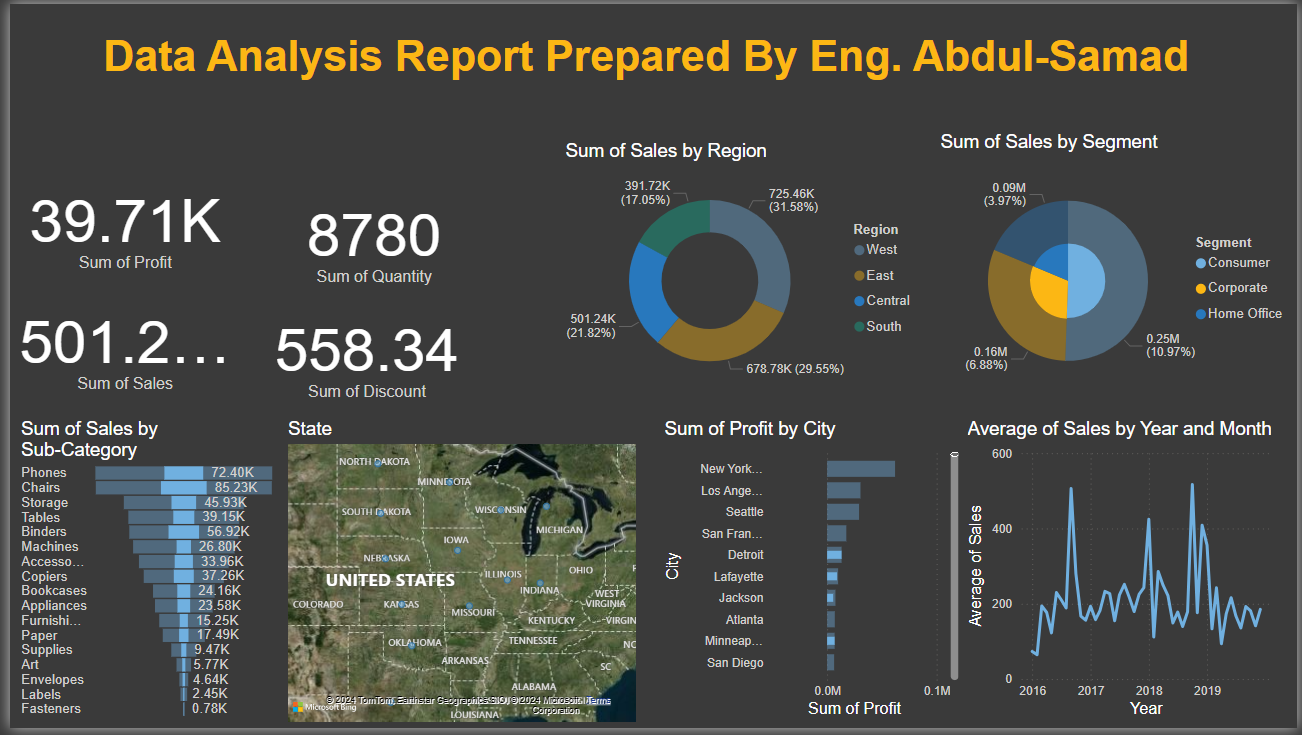

The page's visual inventory and layout, read from the dashboard file:
{"tool":"powerbi","page":{"name":"01_report","canvas":[1280,720],"ordinal":0},"visuals":[{"type":"donutChart","fields":{"Category":["Orders.Region"],"Y":["Sum(Orders.Sales)"]},"box":[547.9,136.1,362.4,257.6],"z":0},{"type":"funnel","fields":{"Category":["Orders.Sub-Category"],"Y":["Sum(Orders.Sales)"]},"box":[6.3,412.7,264.6,302.4],"z":1000},{"type":"clusteredBarChart","fields":{"Category":["Orders.City"],"Y":["Sum(Orders.Profit)"]},"box":[645.8,412.7,302.4,302.4],"z":2000},{"type":"map","fields":{"Category":["Orders.State"]},"box":[270.9,412.7,356,307.1],"z":3000},{"type":"pieChart","fields":{"Category":["Orders.Segment"],"Y":["Sum(Orders.Sales)"]},"box":[921.4,127.6,359.1,275.6],"z":4000},{"type":"lineChart","fields":{"Category":["Orders.Order Date.Variation.Date Hierarchy.Year","Orders.Order Date.Variation.Date Hierarchy.Month"],"Y":["Avg(Orders.Sales)"]},"box":[948.2,412.7,315,302.4],"z":5000},{"type":"card","fields":{"Values":["Sum(Orders.Profit)"]},"box":[0.6,165.2,228.5,107.7],"z":6000},{"type":"card","fields":{"Values":["Sum(Orders.Quantity)"]},"box":[275.7,181.2,171.8,106.3],"z":7000},{"type":"card","fields":{"Values":["Sum(Orders.Discount)"]},"box":[251,287.5,208.1,119.4],"z":8000},{"type":"card","fields":{"Values":["Sum(Orders.Sales)"]},"box":[0.6,272.9,228.5,133.9],"z":9000},{"type":"textbox","box":[3.2,22.1,1260.1,105.5],"z":10000}]}

Visuals, with their boxes in screenshot pixels (x1, y1, x2, y2), scaled from the page's 1280x720 canvas onto the 1302x735 screenshot:
donutChart - Orders.Region x Sum(Orders.Sales): detection(557, 139, 926, 402)
funnel - Orders.Sub-Category x Sum(Orders.Sales): detection(6, 421, 276, 730)
clusteredBarChart - Orders.City x Sum(Orders.Profit): detection(657, 421, 964, 730)
map - Orders.State: detection(276, 421, 638, 734)
pieChart - Orders.Segment x Sum(Orders.Sales): detection(937, 130, 1301, 412)
lineChart - Orders.Order Date.Variation.Date Hierarchy.Year x Orders.Order Date.Variation.Date Hierarchy.Month: detection(964, 421, 1285, 730)
card - Sum(Orders.Profit): detection(1, 169, 233, 279)
card - Sum(Orders.Quantity): detection(280, 185, 455, 293)
card - Sum(Orders.Discount): detection(255, 293, 467, 415)
card - Sum(Orders.Sales): detection(1, 279, 233, 415)
textbox: detection(3, 23, 1285, 130)
